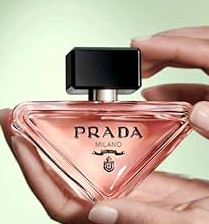prada_paradoxe: (8, 43, 195, 205)
